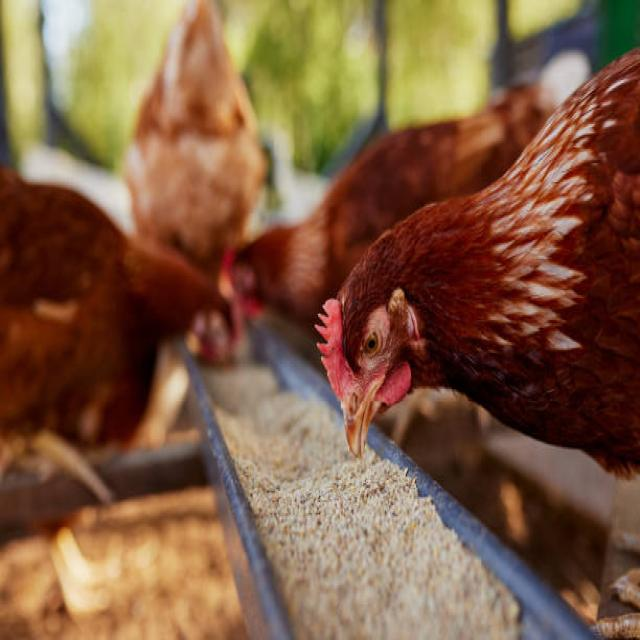Chicken: (313, 73, 640, 511)
